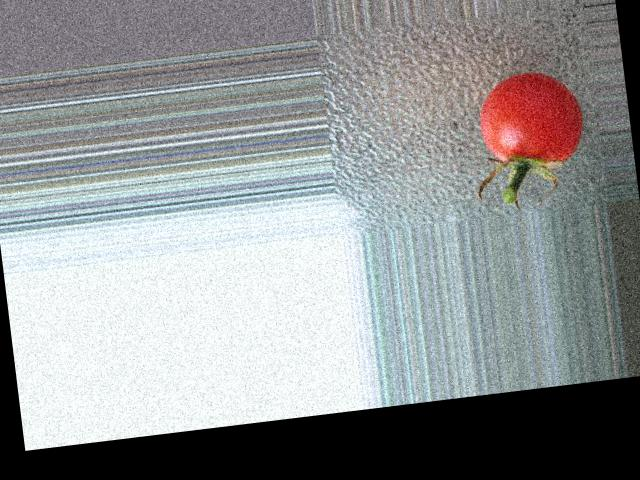tomato: (473, 66, 586, 171)
